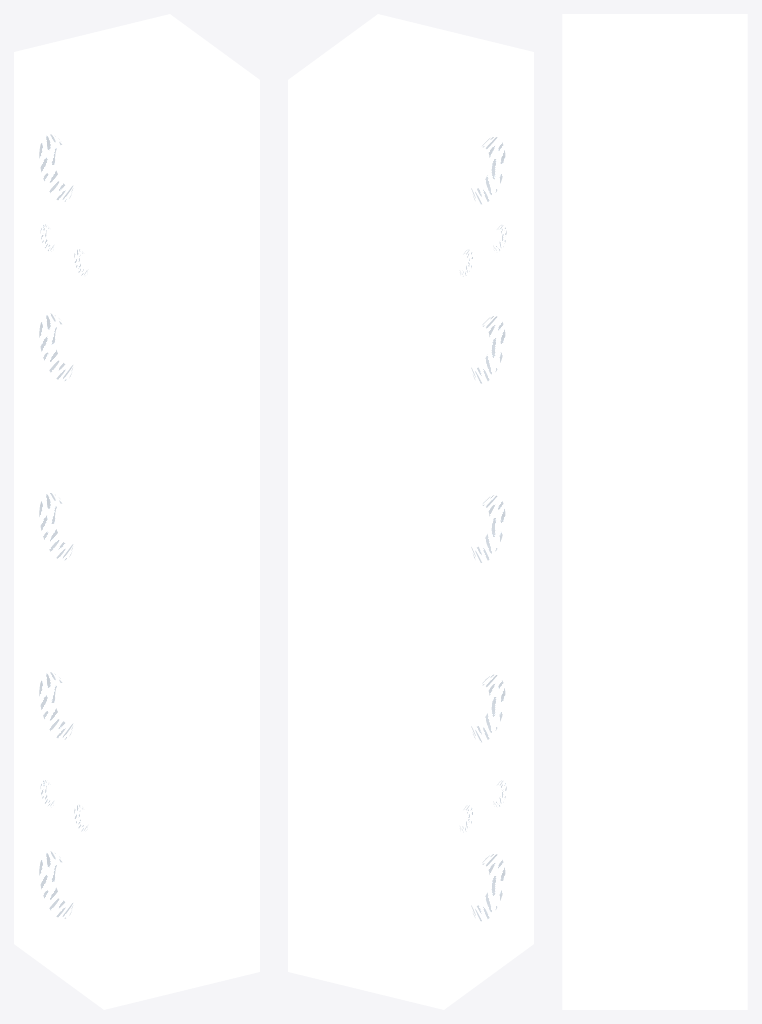
File: SM_Speakers.fbx
The picture shows the model from 3 angles, left to right: view 1: azimuth 30°, elevation 25°; view 2: azimuth 150°, elevation 25°; view 3: azimuth 270°, elevation 25°; orthographic projection. The views are drawn at different scales.
Visible parts, largest first — view 1: SM_Speakers_LOD0; view 2: SM_Speakers_LOD0; view 3: SM_Speakers_LOD0.
Boxes of the visible parts, bbox=[...] form: SM_Speakers_LOD0: bbox=[14, 14, 259, 1009]; SM_Speakers_LOD0: bbox=[288, 14, 533, 1009]; SM_Speakers_LOD0: bbox=[562, 14, 747, 1009].
Bounding box in the file's own units: 51.53 × 50 × 273.
